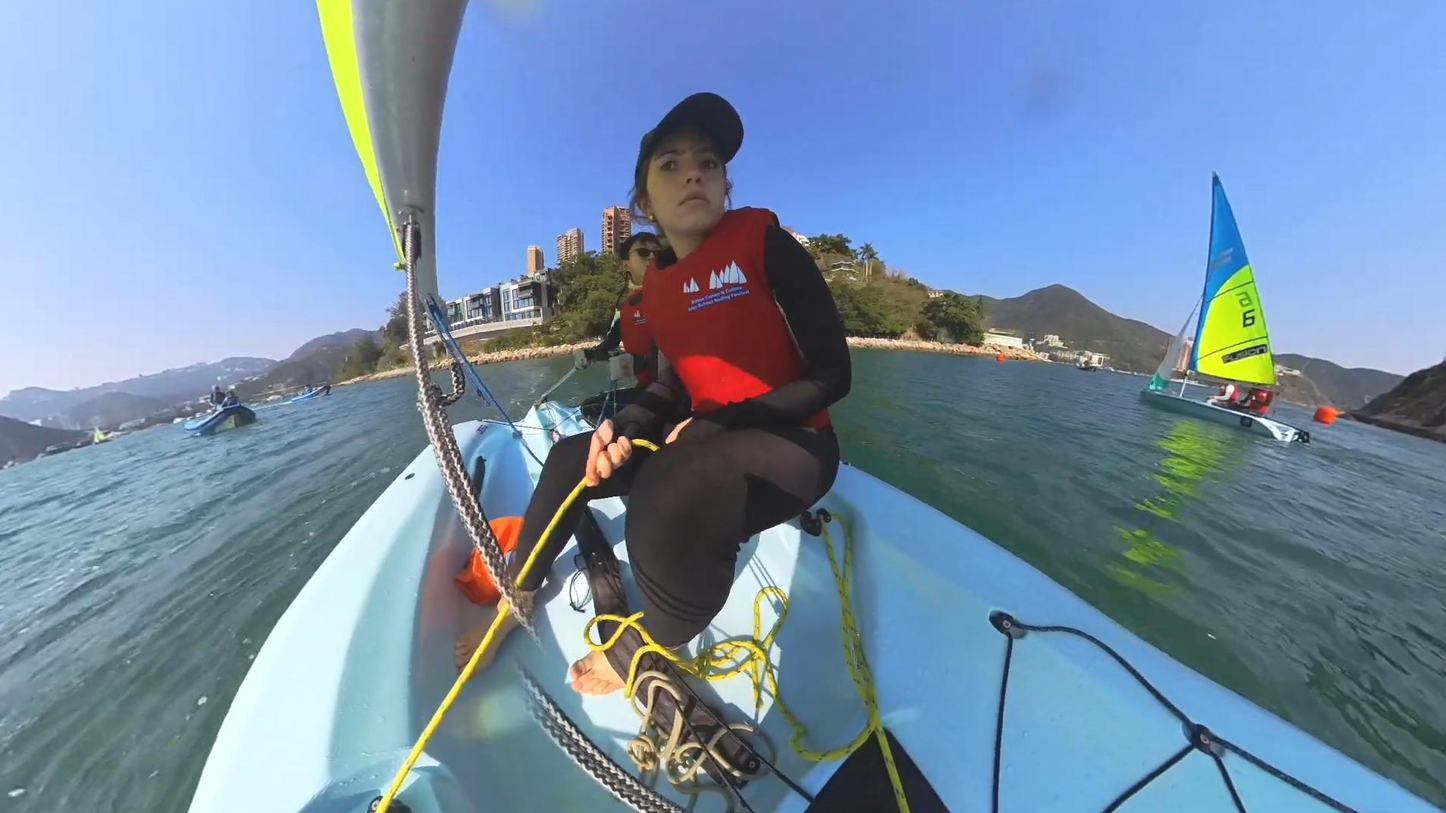boat: (186, 0, 1446, 813)
land: (802, 235, 1173, 375), (0, 329, 391, 459), (447, 207, 668, 365), (1277, 354, 1446, 445)
person: (454, 93, 850, 697), (570, 233, 665, 429)
sea: (832, 350, 1446, 813), (0, 376, 431, 813), (451, 353, 609, 425)
sky: (434, 0, 1446, 374), (0, 0, 403, 400)
